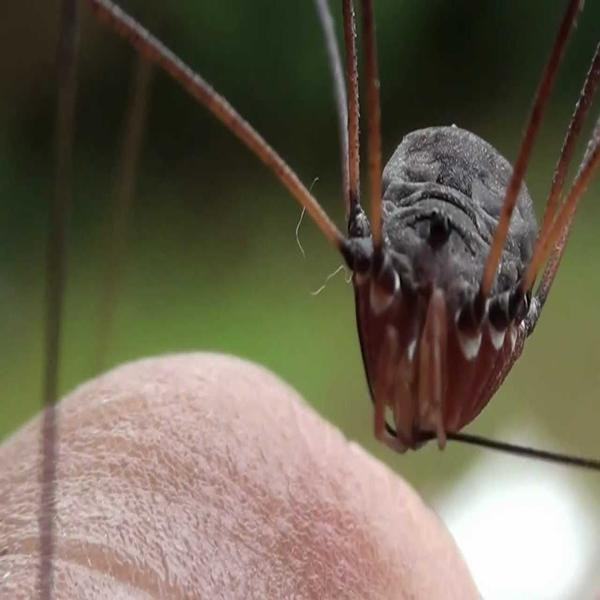Daddy Long Legs Spider: (25, 4, 600, 467)
